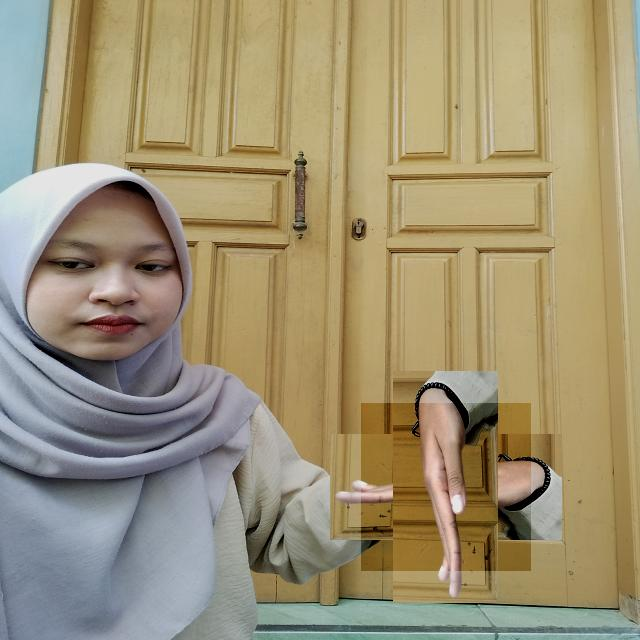adik: (361, 403, 531, 571)
